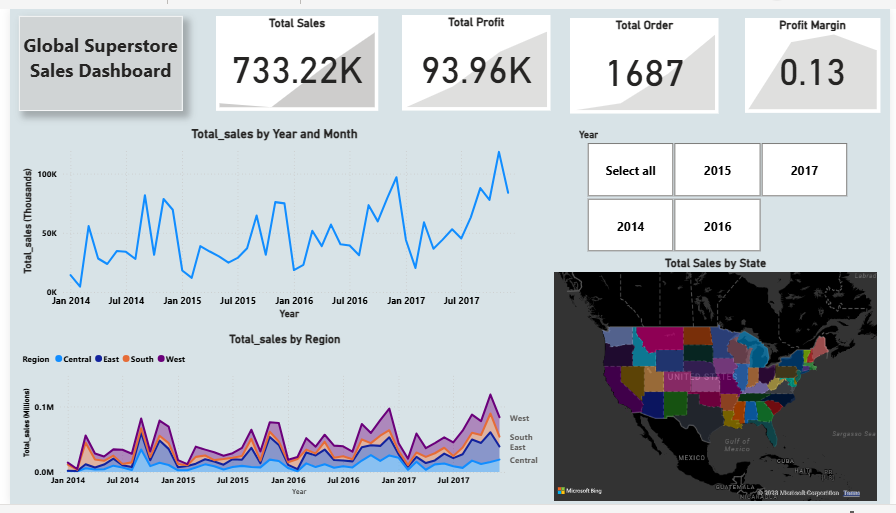

Layout of this report page (visuals, bound fields, positions):
{"tool":"powerbi","page":{"name":"Executive Overview","canvas":[1280,720],"ordinal":1},"visuals":[{"type":"textbox","box":[12.5,10.7,237.8,137.7],"z":0},{"type":"kpi","title":"Total Sales","fields":{"Indicator":["Sum(FactSuperstore.Sales)"],"TrendLine":["FactSuperstore.order_date.Variation.Date Hierarchy.Year"]},"box":[300.3,10.7,236,137.7],"z":1000},{"type":"kpi","title":"Total Order","fields":{"Indicator":["Count(FactSuperstore.Order ID)"],"TrendLine":["FactSuperstore.order_date.Variation.Date Hierarchy.Year"]},"box":[815.2,12.5,216.3,139.4],"z":2000},{"type":"kpi","title":"Total Profit","fields":{"Indicator":["FactSuperstore.total_profit"],"TrendLine":["FactSuperstore.order_date.Variation.Date Hierarchy.Year"]},"box":[570.3,8.9,216.3,139.4],"z":3000},{"type":"kpi","title":"Profit Margin","fields":{"Indicator":["FactSuperstore.Profit Margin"],"TrendLine":["FactSuperstore.order_date.Variation.Date Hierarchy.Year"]},"box":[1069.1,12.5,196.6,137.7],"z":4000},{"type":"lineChart","fields":{"Y":["FactSuperstore.Total_sales"],"Category":["FactSuperstore.order_date.Variation.Date Hierarchy.Year","FactSuperstore.order_date.Variation.Date Hierarchy.Month"]},"box":[12.8,169.8,743.5,285.4],"z":5000},{"type":"stackedAreaChart","title":"Total_sales by Region","fields":{"Y":["FactSuperstore.Total_sales"],"Category":["FactSuperstore.order_date.Variation.Date Hierarchy.Year","FactSuperstore.order_date.Variation.Date Hierarchy.Month"],"Series":["dimRegion.Region"]},"box":[12.8,469.5,773.4,242.6],"z":6000},{"type":"filledMap","title":"Total Sales by State","fields":{"Category":["dimState.State"],"Series":["dimState.State"]},"box":[786.6,359.3,479.1,361.1],"z":7000},{"type":"slicer","fields":{"Values":["FactSuperstore.order_date.Variation.Date Hierarchy.Year"]},"box":[815.2,169.8,427.3,189.5],"z":8000}]}

Visuals, with their boxes in screenshot pixels (x1, y1, x2, y2), scaled from the page's 1280x720 canvas onto the 896x513 screenshot:
textbox: crop(9, 8, 175, 106)
"Total Sales" kpi: crop(210, 8, 375, 106)
"Total Order" kpi: crop(571, 9, 722, 108)
"Total Profit" kpi: crop(399, 6, 551, 106)
"Profit Margin" kpi: crop(748, 9, 886, 107)
lineChart - FactSuperstore.Total_sales x FactSuperstore.order_date.Variation.Date Hierarchy.Year: crop(9, 121, 529, 324)
"Total_sales by Region" stackedAreaChart: crop(9, 335, 550, 507)
"Total Sales by State" filledMap: crop(551, 256, 886, 512)
slicer - FactSuperstore.order_date.Variation.Date Hierarchy.Year: crop(571, 121, 870, 256)
